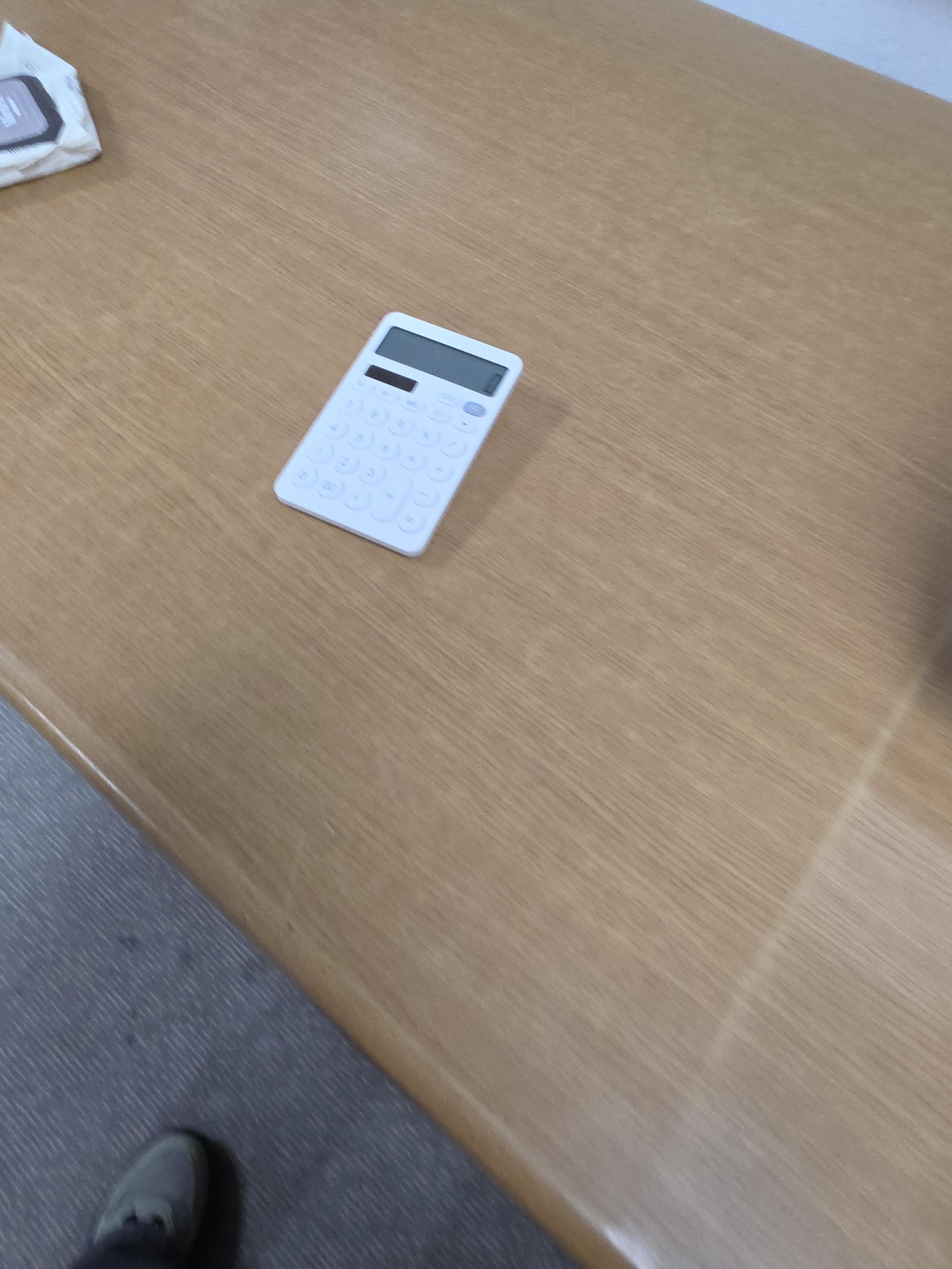calculator: (273, 311, 524, 558)
tissue: (0, 22, 102, 188)
